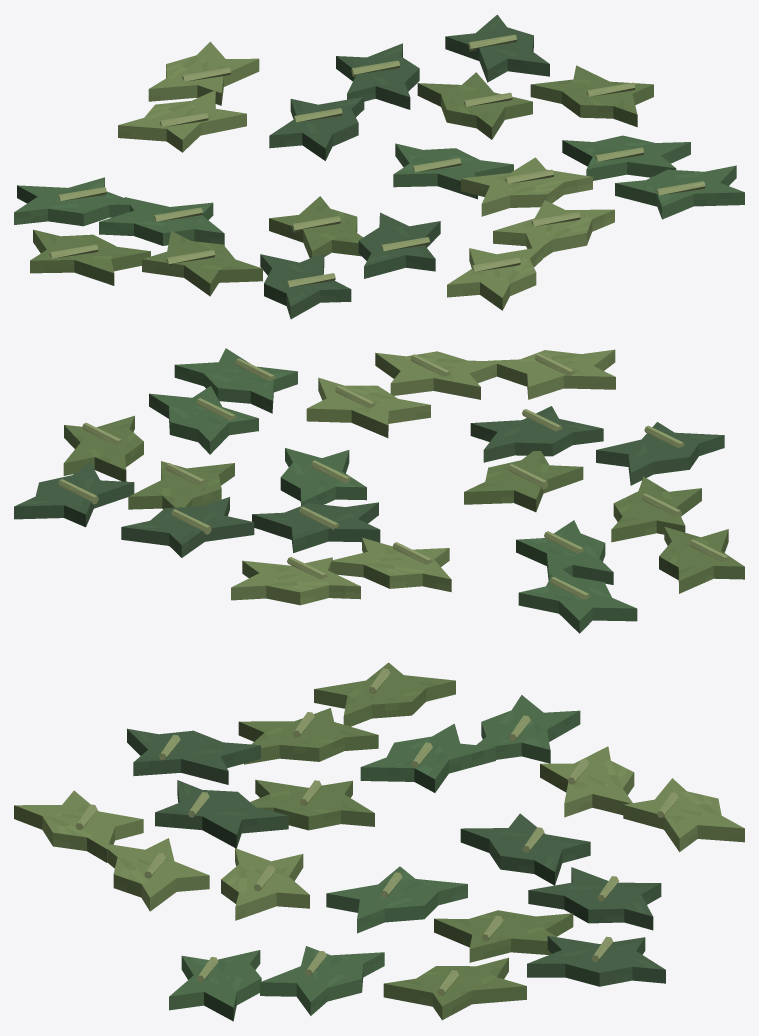
The model's file is pea_pods.glb.
3 renders of one model, top to bottom at view 1: azimuth 30°, elevation 25°; view 2: azimuth 150°, elevation 25°; view 3: azimuth 270°, elevation 25°, orthographic. The views are drawn at different scales.
Parts seen in each view (by area): view 1: block_chopped leaf (×20); view 2: block_chopped leaf (×20); view 3: block_chopped leaf (×20).
Part boxes in pixels (box(x1,y1,x2,y2)): block_chopped leaf (×20): box(14, 14, 744, 319); block_chopped leaf (×20): box(14, 348, 744, 633); block_chopped leaf (×20): box(14, 662, 744, 1021).
Bounding box in the file's own units: 0.1 × 0.00618 × 0.0898.
1 material, 1 textured.
